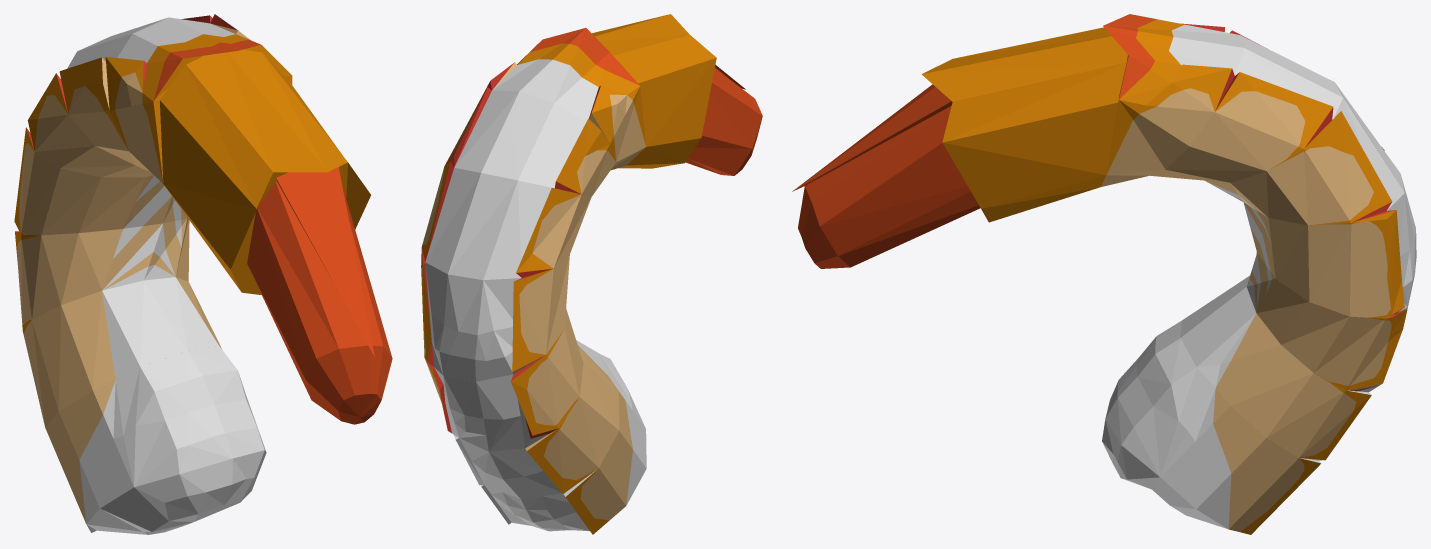
The model's file is shrimp.gltf.
The picture shows the model from 3 angles, left to right: view 1: azimuth 30°, elevation 25°; view 2: azimuth 150°, elevation 25°; view 3: azimuth 270°, elevation 25°; orthographic projection. The views are drawn at different scales.
Visible parts, largest first — view 1: node_MeshObject158328256-PolyPaper21; view 2: node_MeshObject158328256-PolyPaper21; view 3: node_MeshObject158328256-PolyPaper21.
Boxes of the visible parts, x1,y1,x2,y2 form: node_MeshObject158328256-PolyPaper21: [14, 14, 392, 534]; node_MeshObject158328256-PolyPaper21: [421, 14, 762, 534]; node_MeshObject158328256-PolyPaper21: [792, 14, 1416, 534].
Size of the model in its own units: 0.5637 by 1.56 by 1.75.
